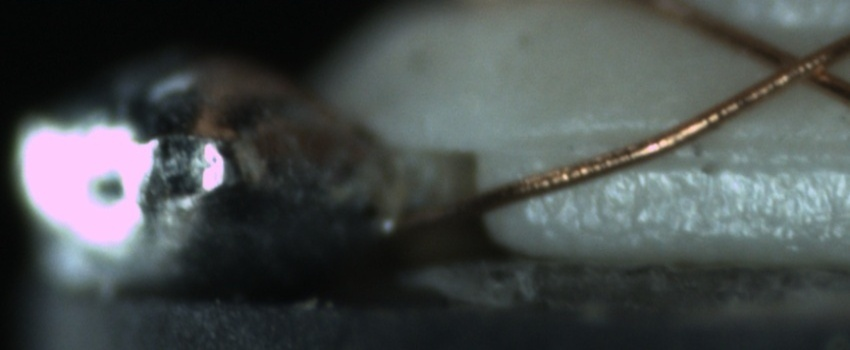CL: (747, 31, 844, 96)
DL: (522, 110, 840, 184)
